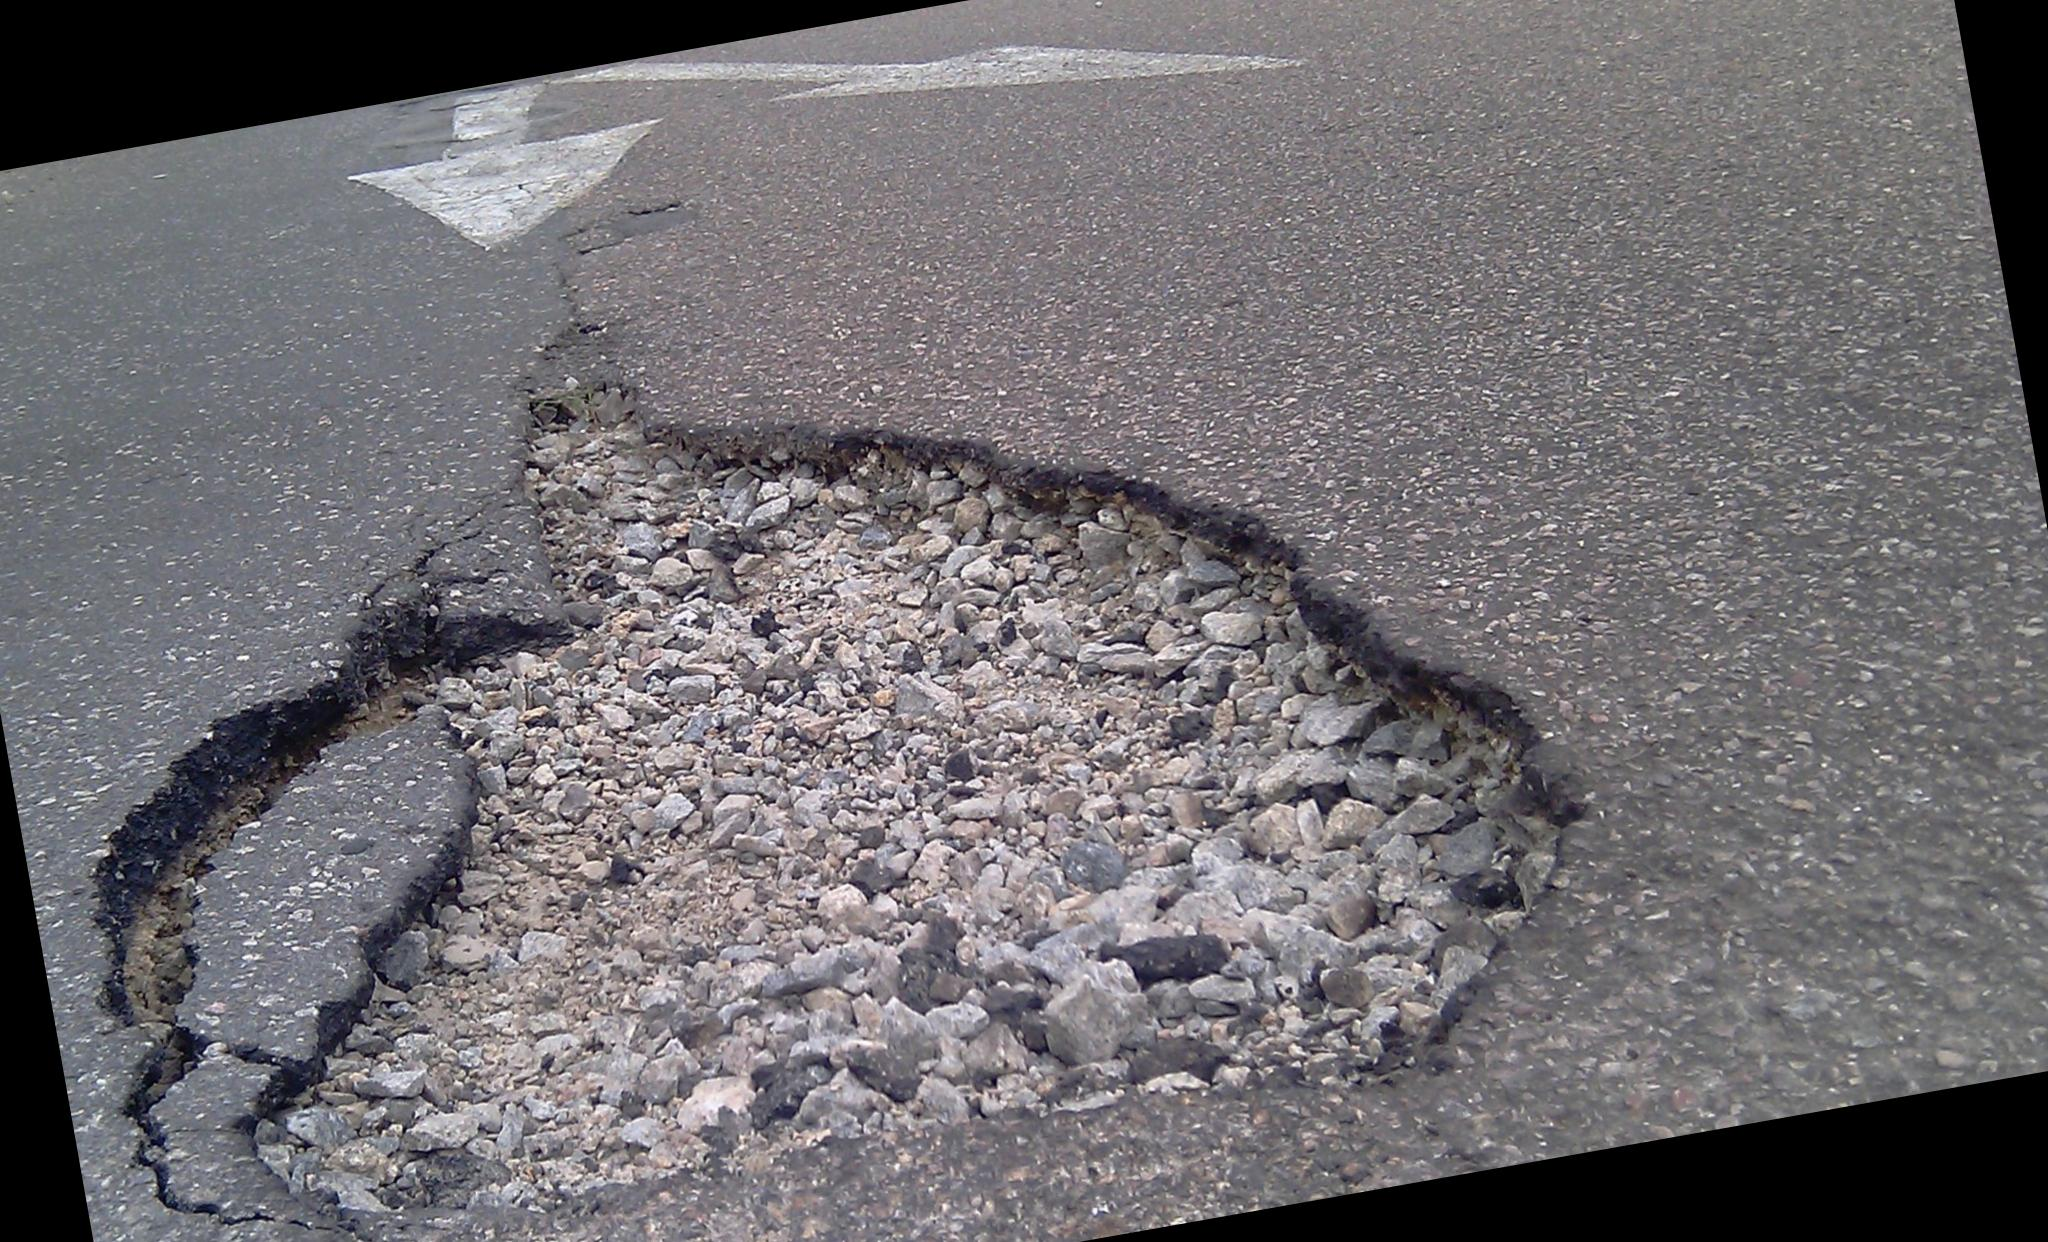pothole: (0, 121, 1675, 1242)
